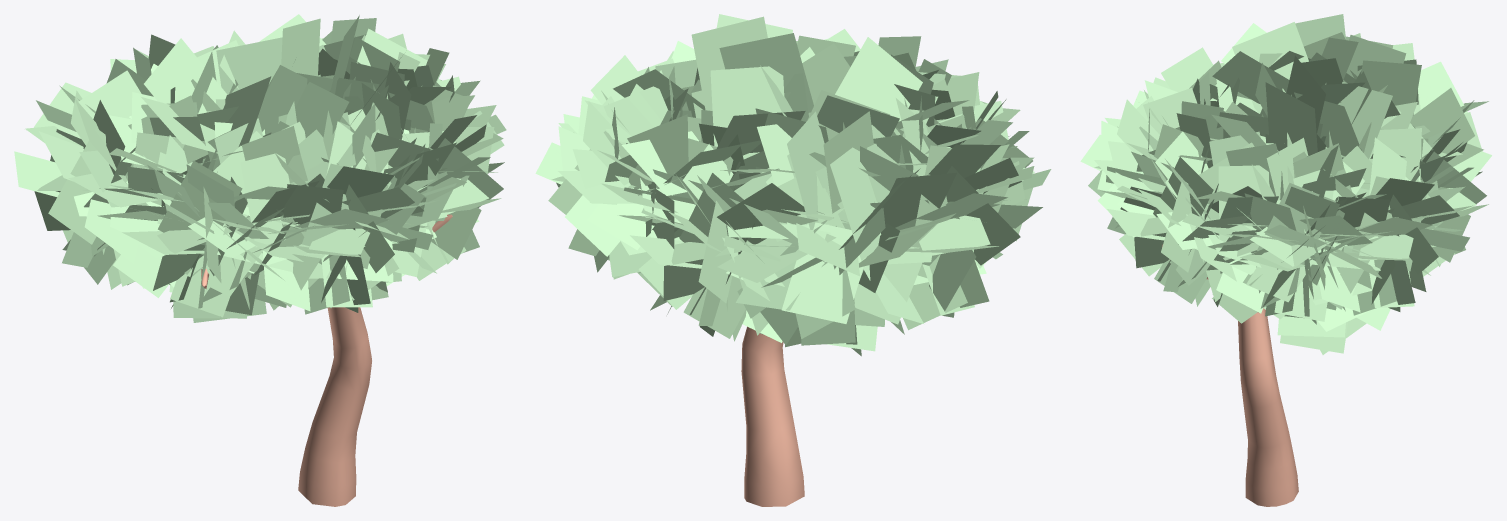
File: Tree_02.fbx
3 views of the same model, side by side, from view 1: azimuth 30°, elevation 25°; view 2: azimuth 150°, elevation 25°; view 3: azimuth 270°, elevation 25° (orthographic). The views are drawn at different scales.
Visible parts, largest first — view 1: Tree_02; view 2: Tree_02; view 3: Tree_02.
Boxes of the visible parts, x1,y1,x2,y2 form: Tree_02: (14,14,506,506); Tree_02: (535,14,1051,506); Tree_02: (1080,14,1491,506).
Bounding box in the file's own units: 681 × 687 × 602.
